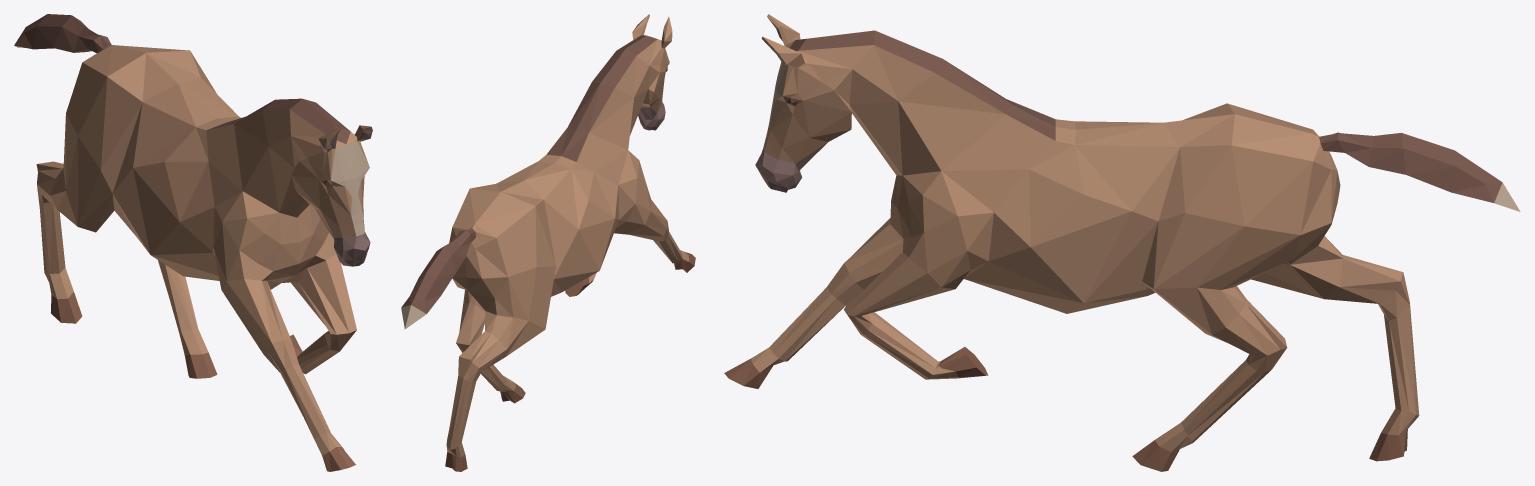
File: Horse.glb
3 renders of one model, left to right at view 1: azimuth 30°, elevation 25°; view 2: azimuth 150°, elevation 25°; view 3: azimuth 270°, elevation 25°, orthographic. The views are drawn at different scales.
Parts seen in each view (by area): view 1: mesh_0; view 2: mesh_0; view 3: mesh_0.
Boxes of the visible parts, x1,y1,x2,y2 form: mesh_0: [14, 14, 372, 471]; mesh_0: [401, 14, 695, 471]; mesh_0: [724, 14, 1520, 471].
Size of the model in its own units: 61.38 by 178 by 291.
